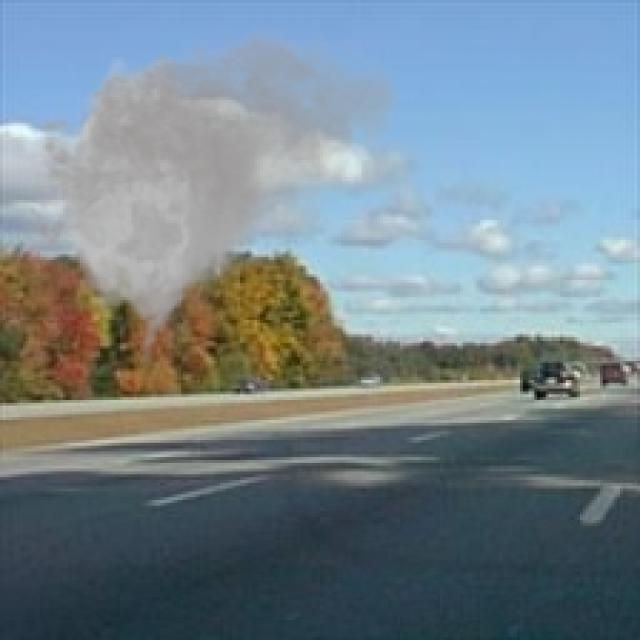smoke: (11, 17, 406, 372)
